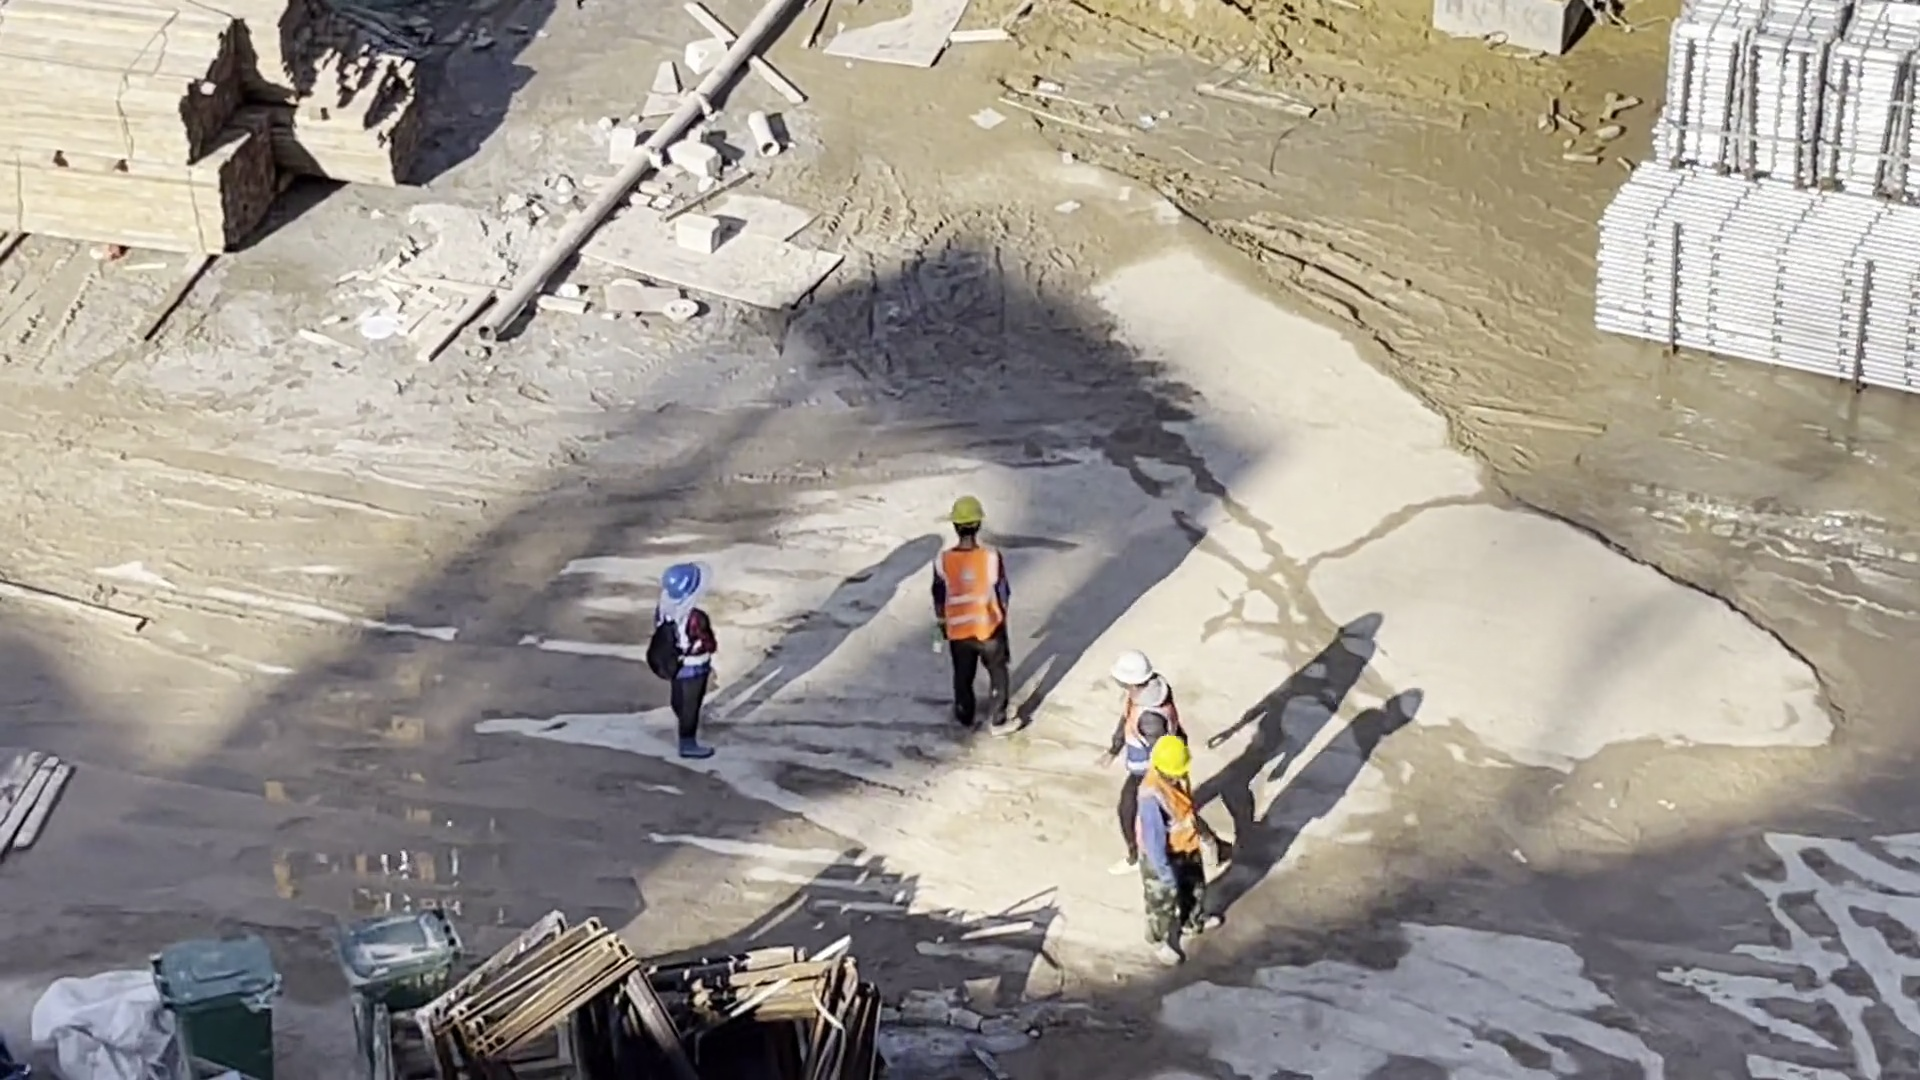helmet: (1112, 650, 1155, 687), (1154, 737, 1192, 776), (665, 564, 704, 597), (951, 496, 986, 526)
person: (938, 500, 1017, 730), (1143, 733, 1216, 966), (1111, 651, 1177, 870), (651, 561, 712, 756)
scaffold: (1596, 166, 1920, 391), (1659, 1, 1920, 191)
vest: (938, 549, 1011, 645), (1147, 770, 1196, 851), (673, 608, 709, 681)
wood: (1, 8, 285, 261)
